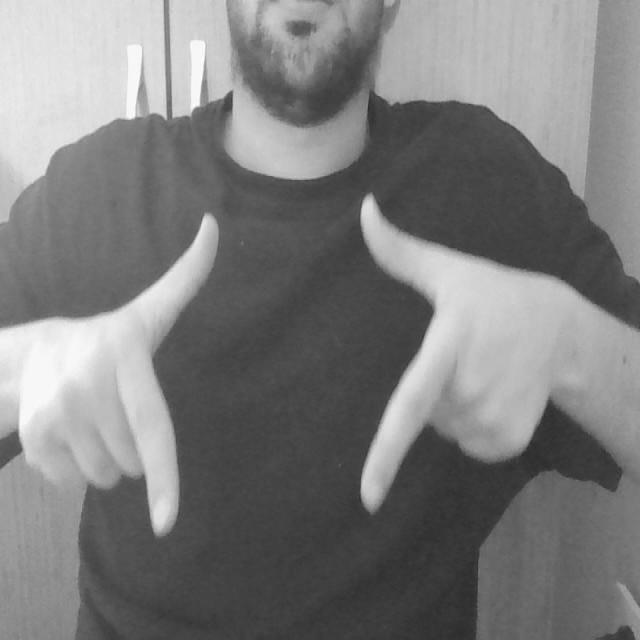Nerede: (108, 188, 465, 543)
